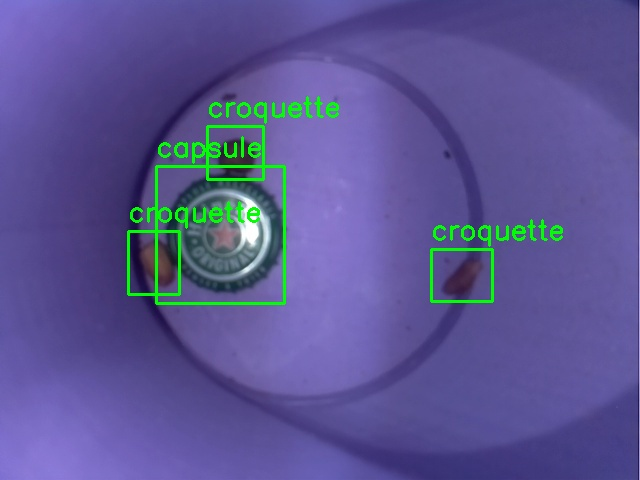capsule: (156, 166, 284, 303)
croquette: (128, 231, 179, 294), (431, 249, 492, 301), (207, 126, 263, 179)
